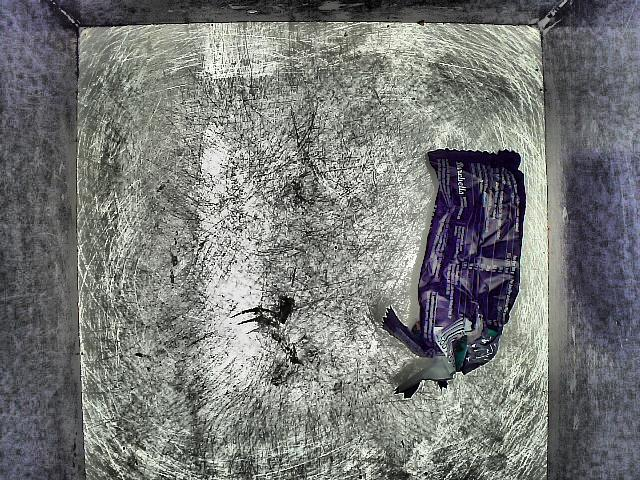Plastic: (373, 126, 530, 417)
